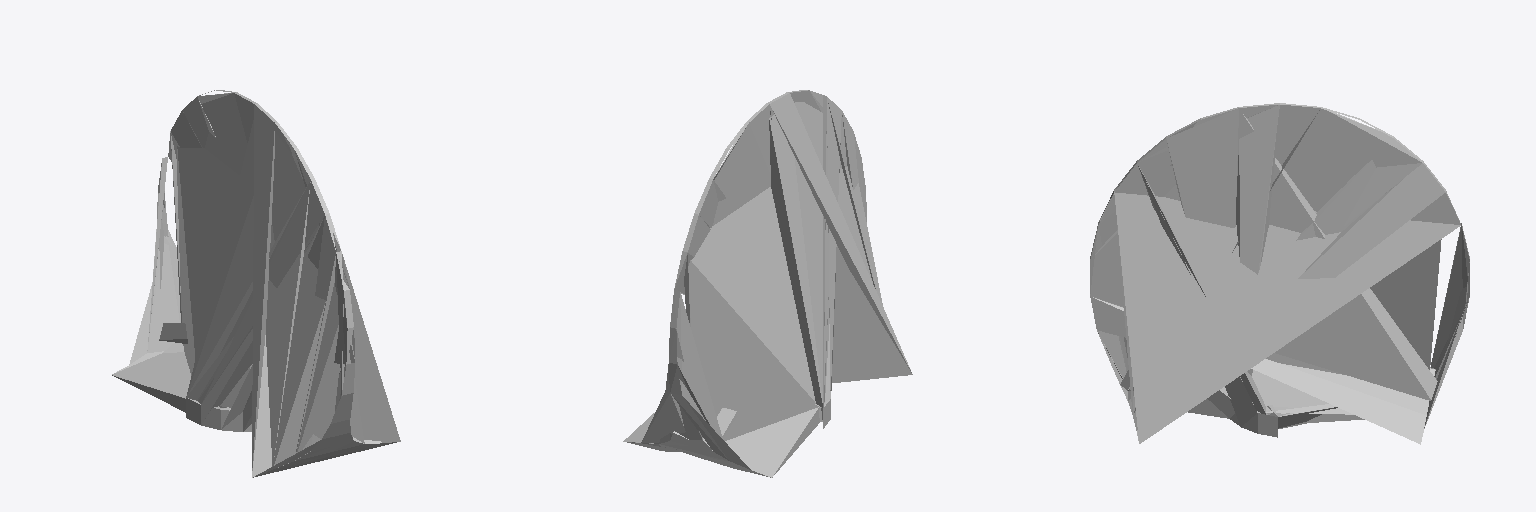
Rendered from Skydusk0.obj.
3 views of the same model, side by side, from view 1: azimuth 30°, elevation 25°; view 2: azimuth 150°, elevation 25°; view 3: azimuth 270°, elevation 25° (orthographic).
Parts seen in each view (by area): view 1: _05_ground, _00_sky, _02_water, _20_ring; view 2: _05_ground, _00_sky, _20_ring; view 3: _05_ground, _00_sky, _02_water.
Part boxes in pixels (bbox=[...]): _05_ground: bbox=[112, 92, 400, 477]; _00_sky: bbox=[186, 103, 340, 431]; _02_water: bbox=[186, 124, 328, 431]; _20_ring: bbox=[133, 90, 368, 469]; _05_ground: bbox=[623, 90, 912, 477]; _00_sky: bbox=[767, 92, 847, 427]; _20_ring: bbox=[641, 90, 822, 477]; _05_ground: bbox=[1090, 103, 1469, 444]; _00_sky: bbox=[1114, 103, 1280, 437]; _02_water: bbox=[1137, 140, 1277, 434].
Bounding box in the file's own units: 1006826 × 1965992 × 2220302.